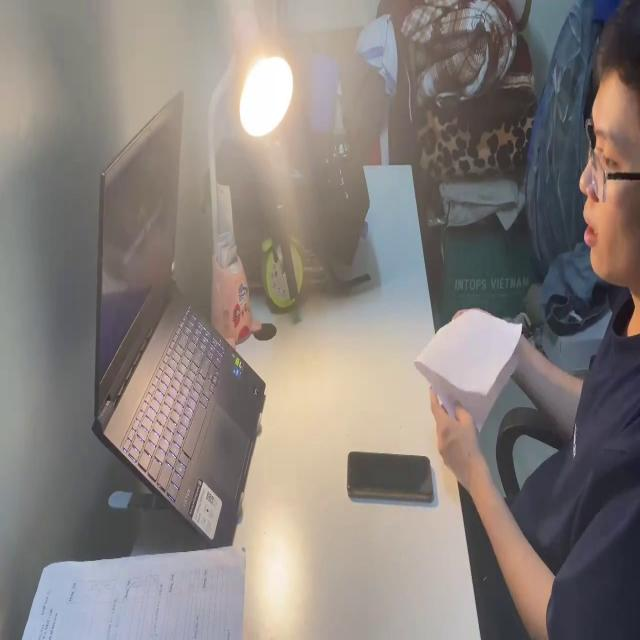book: (22, 541, 244, 640), (415, 305, 527, 431)
laptop: (84, 87, 265, 540)
phone: (348, 446, 436, 502)
student: (424, 0, 640, 640)
